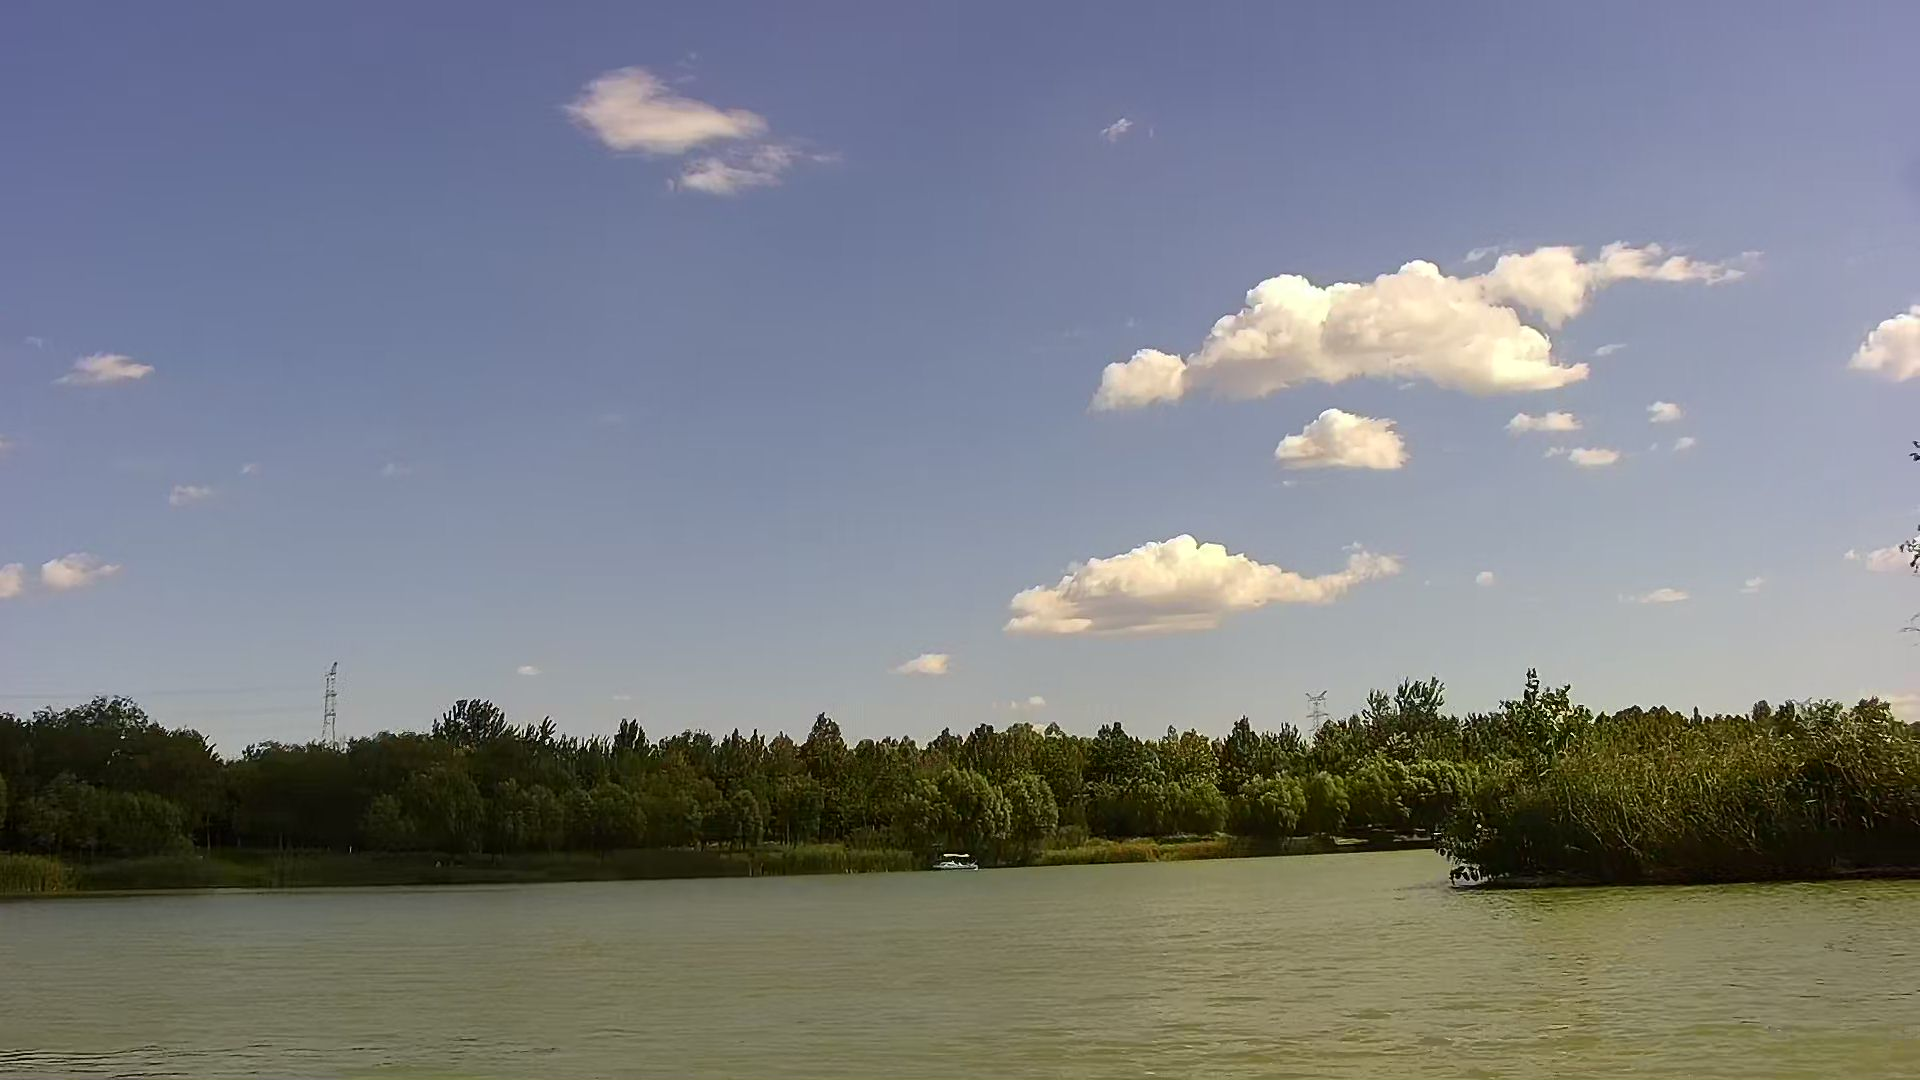boat: (928, 851, 978, 870)
